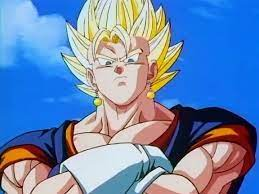Vegito: (77, 1, 173, 110)
